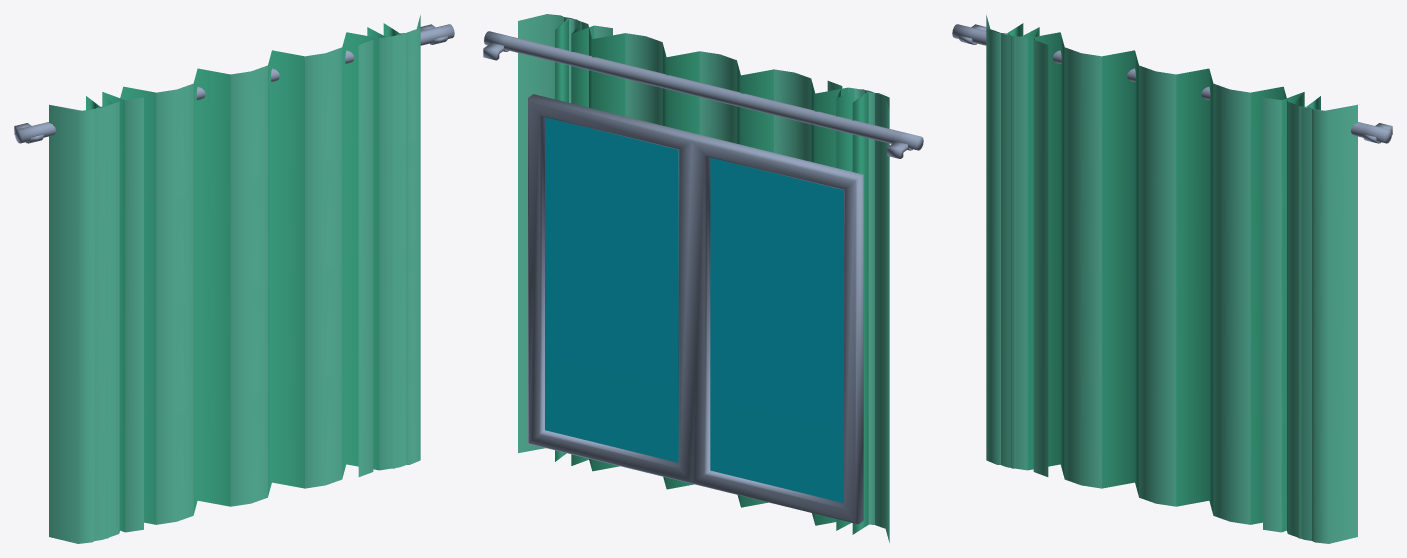
Rendered from Janela.fbx.
3 views of the same model, side by side, from view 1: azimuth 30°, elevation 25°; view 2: azimuth 150°, elevation 25°; view 3: azimuth 330°, elevation 25° (orthographic).
Visible parts, largest first — view 1: CortinaFechada, CortinaAberta, Suporte; view 2: Vidro, Janela, CortinaFechada, CortinaAberta, Suporte; view 3: CortinaFechada, CortinaAberta, Suporte.
Boxes of the visible parts, left/top/right/bottom form: CortinaFechada: left=52, top=15, right=420, bottom=540; CortinaAberta: left=49, top=23, right=420, bottom=543; Suporte: left=14, top=24, right=454, bottom=143; Vidro: left=545, top=117, right=843, bottom=502; Janela: left=528, top=94, right=863, bottom=524; CortinaFechada: left=518, top=15, right=889, bottom=542; CortinaAberta: left=520, top=14, right=889, bottom=534; Suporte: left=483, top=31, right=923, bottom=158; CortinaFechada: left=986, top=15, right=1354, bottom=540; CortinaAberta: left=986, top=23, right=1357, bottom=543; Suporte: left=952, top=24, right=1392, bottom=143.
Size of the model in its own units: 192 by 184 by 21.72.
Materials: 2 (2 with a texture image).
